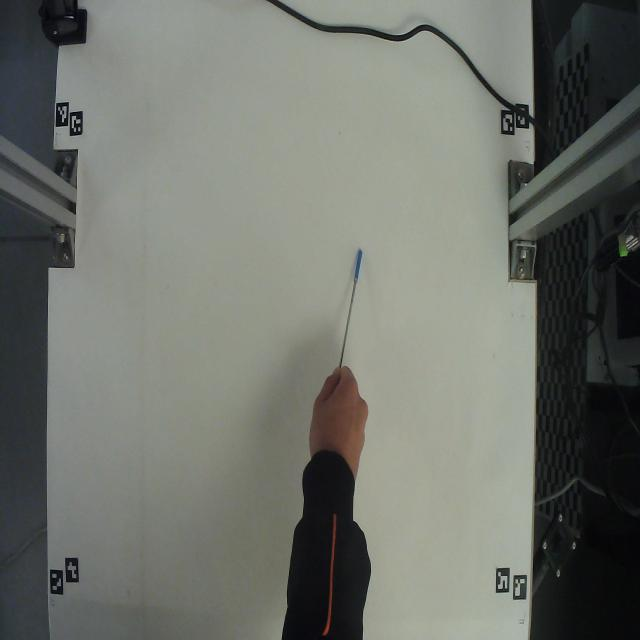Pres: (320, 226, 370, 379)
